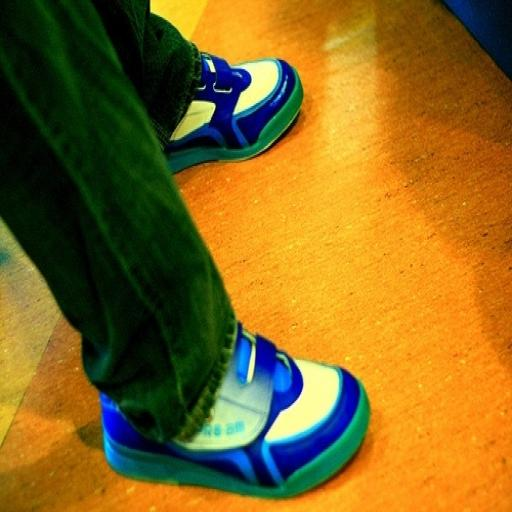shoe: (100, 326, 370, 498), (164, 54, 303, 172)
